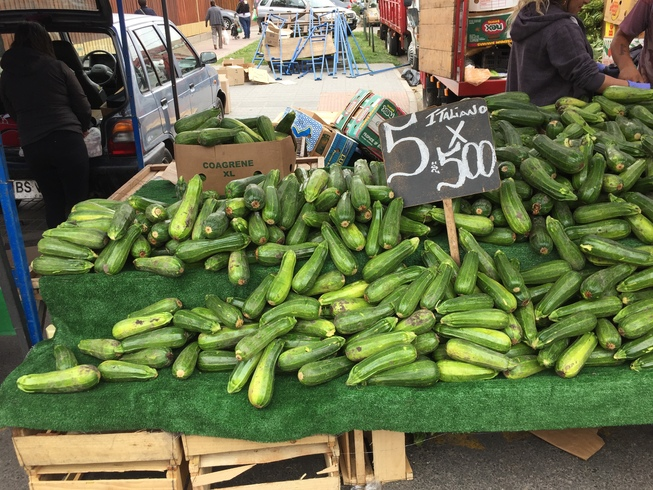precio: (371, 93, 514, 211)
